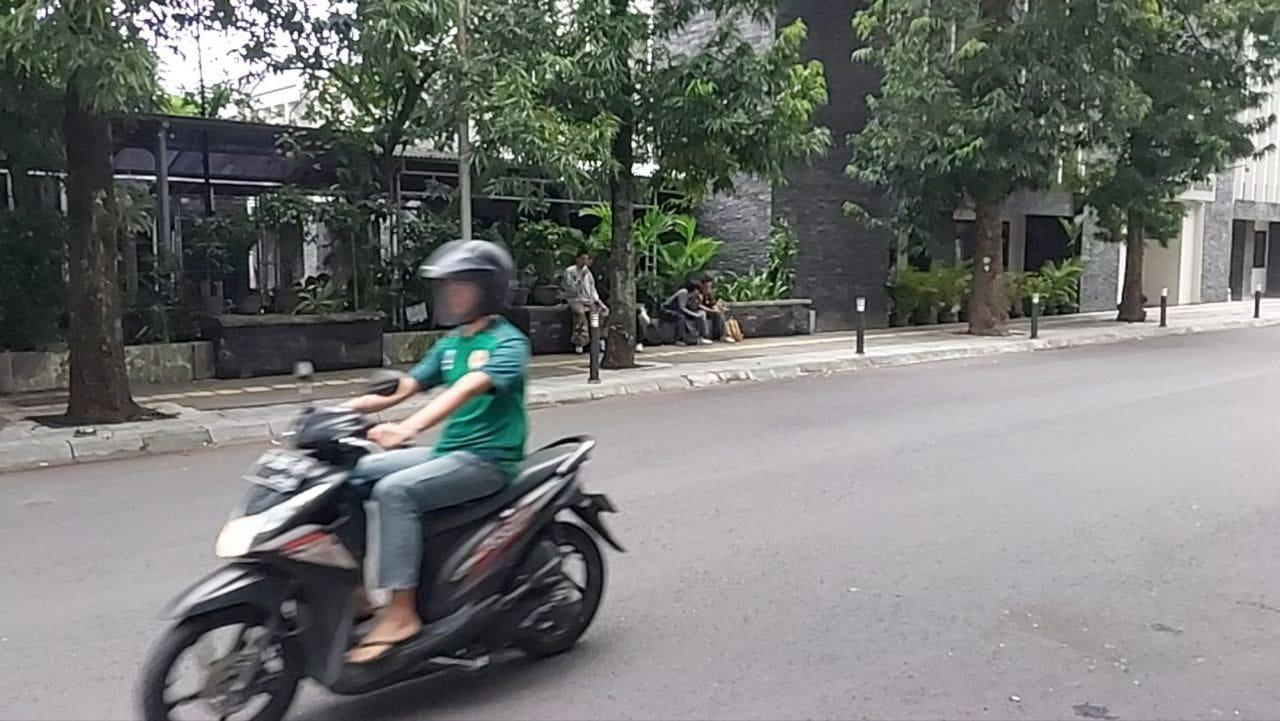helm: (415, 238, 515, 330)
riding: (136, 235, 630, 721)
